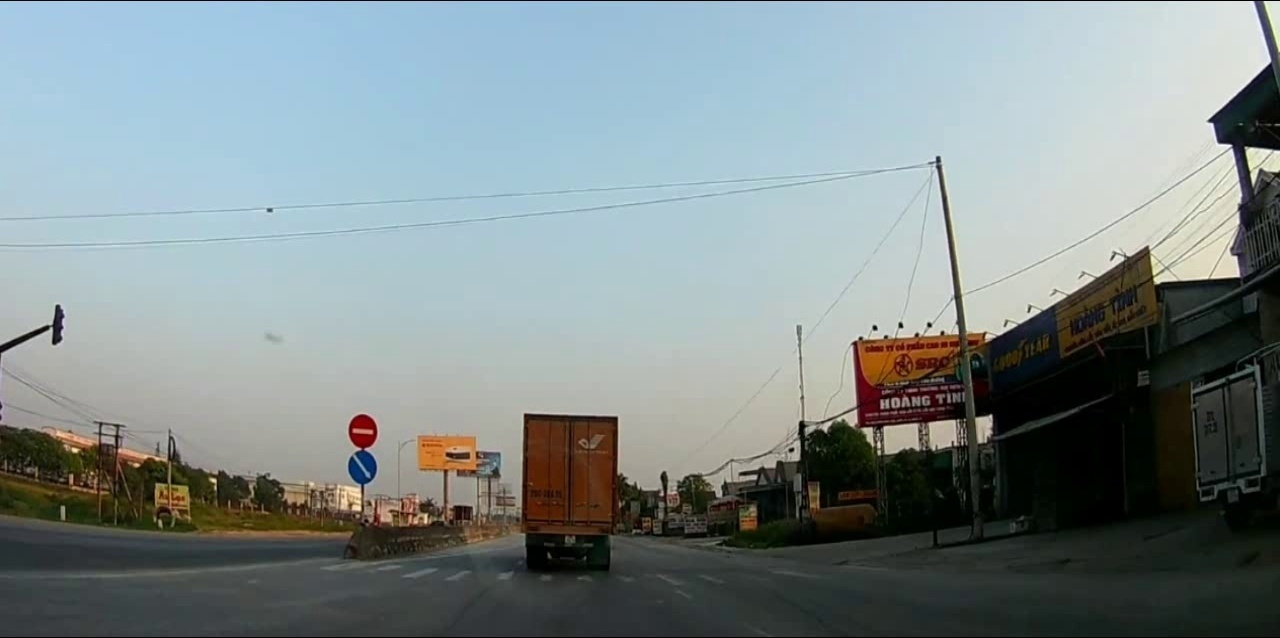Cam di nguoc chieu: (349, 414, 375, 447)
Huong di phai re phai: (348, 449, 378, 484)
